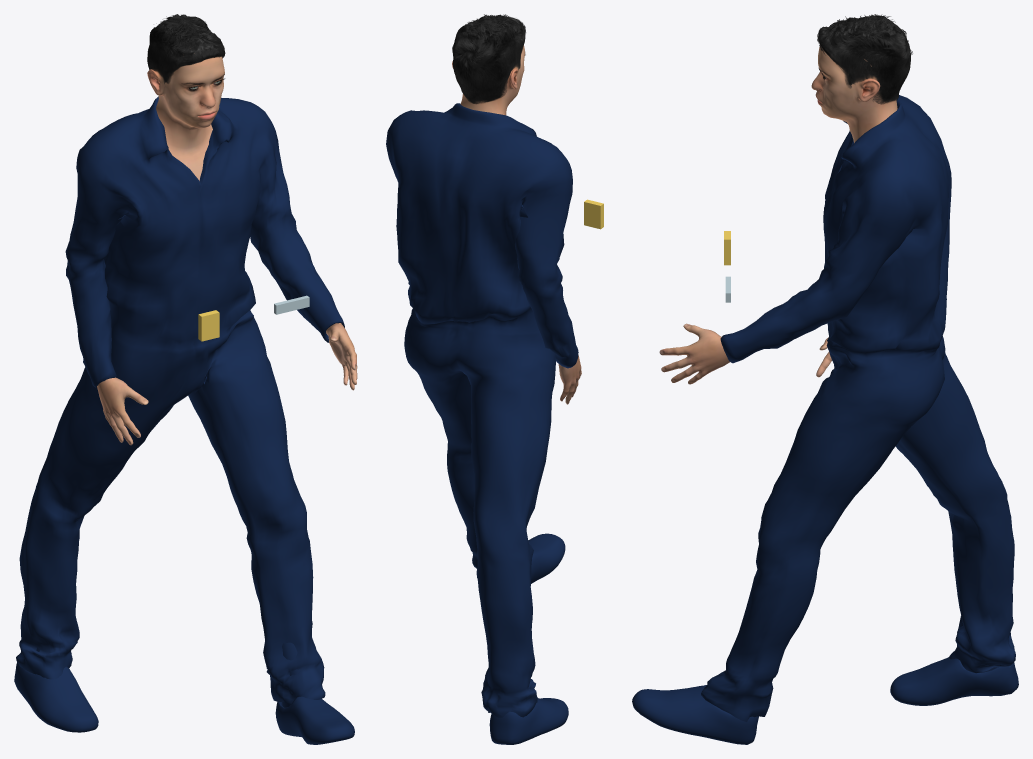
Rendered from polizia-uomo.glb.
3 renders of one model, left to right at view 1: azimuth 30°, elevation 25°; view 2: azimuth 150°, elevation 25°; view 3: azimuth 270°, elevation 25°, orthographic. The views are drawn at different scales.
Parts seen in each view (by area): view 1: Human.male_casualsuit01, Human, Human.shoes05, Human.short01, Distintivo; view 2: Human.male_casualsuit01, Human.short01, Human.shoes05, Human, Distintivo; view 3: Human.male_casualsuit01, Human.shoes05, Human, Human.short01.
Boxes of the visible parts, box(x1,y1,x2,y2) form: Human.male_casualsuit01: box(16, 96, 344, 703); Human: box(97, 56, 357, 445); Human.shoes05: box(14, 642, 354, 744); Human.short01: box(147, 14, 225, 83); Distintivo: box(198, 310, 219, 341); Human.male_casualsuit01: box(386, 103, 578, 717); Human.short01: box(452, 14, 525, 104); Human.shoes05: box(489, 533, 568, 744); Human: box(452, 45, 581, 404); Distintivo: box(584, 199, 603, 229); Human.male_casualsuit01: box(701, 95, 1015, 721); Human.shoes05: box(632, 657, 1018, 744); Human: box(659, 47, 897, 384); Human.short01: box(817, 14, 912, 104).
Bounding box in the file's own units: 0.5669 × 1.82 × 0.8827.
14 materials, 10 textured.
